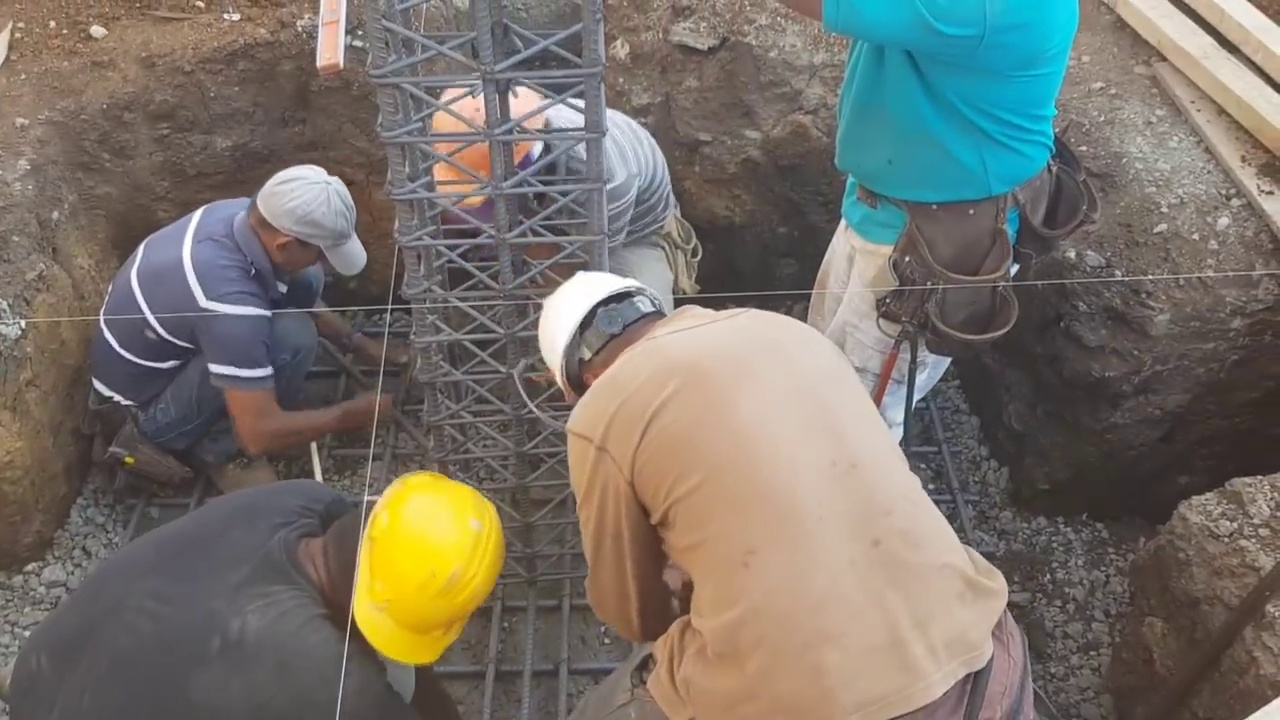helmet: (348, 472, 499, 664), (536, 261, 660, 402), (427, 68, 548, 196)
helmet-off: (248, 165, 368, 281)
helmet-on: (286, 473, 512, 662), (424, 62, 562, 220), (532, 255, 675, 407)
person: (541, 291, 1051, 720), (0, 474, 510, 720), (791, 11, 1089, 407), (98, 163, 420, 487), (404, 80, 690, 309)
